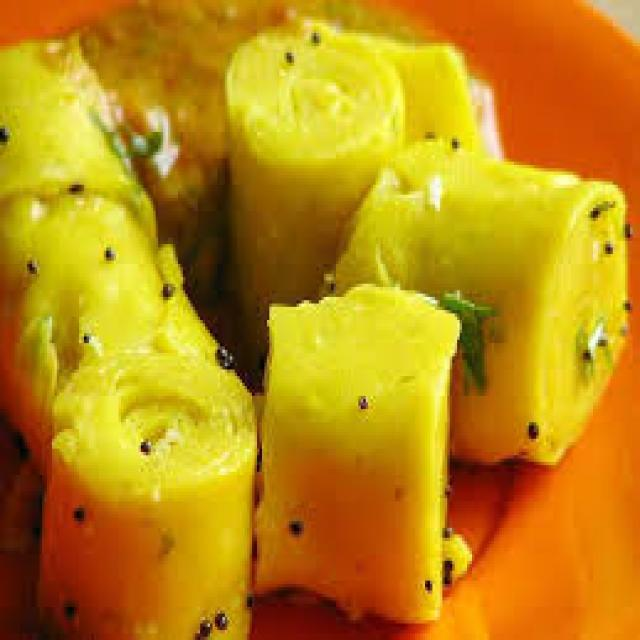DHOKLA: (0, 0, 628, 637)
